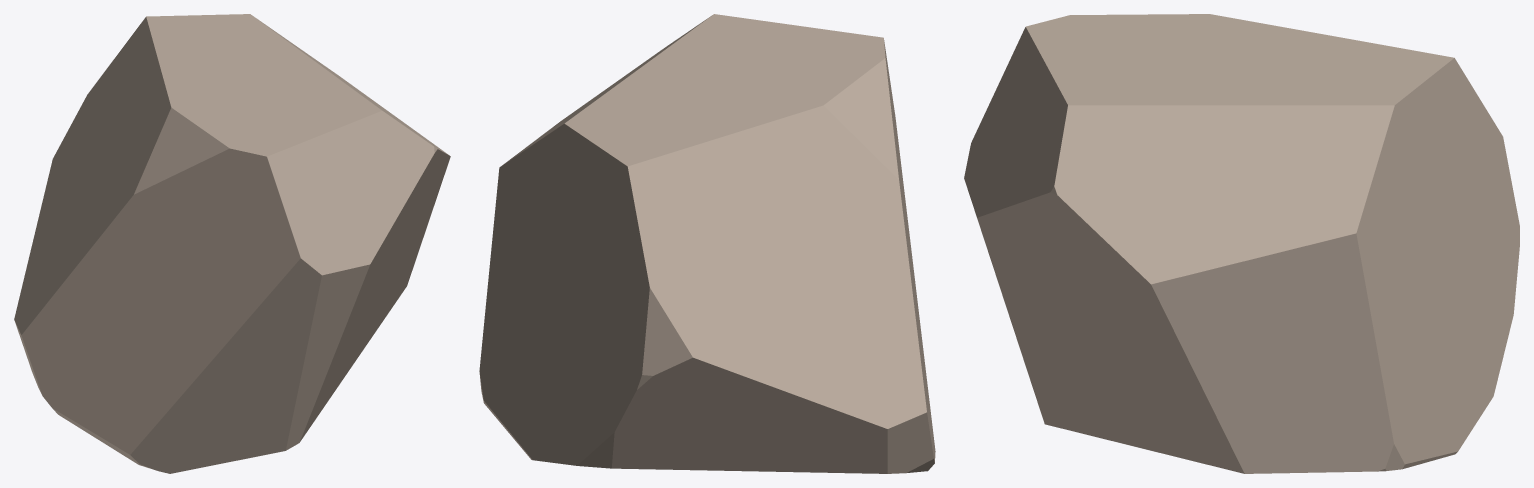
Rendered from ForestRock1.glb.
3 views of the same model, side by side, from view 1: azimuth 30°, elevation 25°; view 2: azimuth 150°, elevation 25°; view 3: azimuth 270°, elevation 25° (orthographic). The views are drawn at different scales.
Parts seen in each view (by area): view 1: ForestRock1; view 2: ForestRock1; view 3: ForestRock1.
Part boxes in pixels (left/top/right/bottom): ForestRock1: left=14, top=14, right=450, bottom=473; ForestRock1: left=479, top=14, right=935, bottom=473; ForestRock1: left=964, top=14, right=1519, bottom=473.
Bounding box in the file's own units: 1.28 × 1.08 × 1.32.
